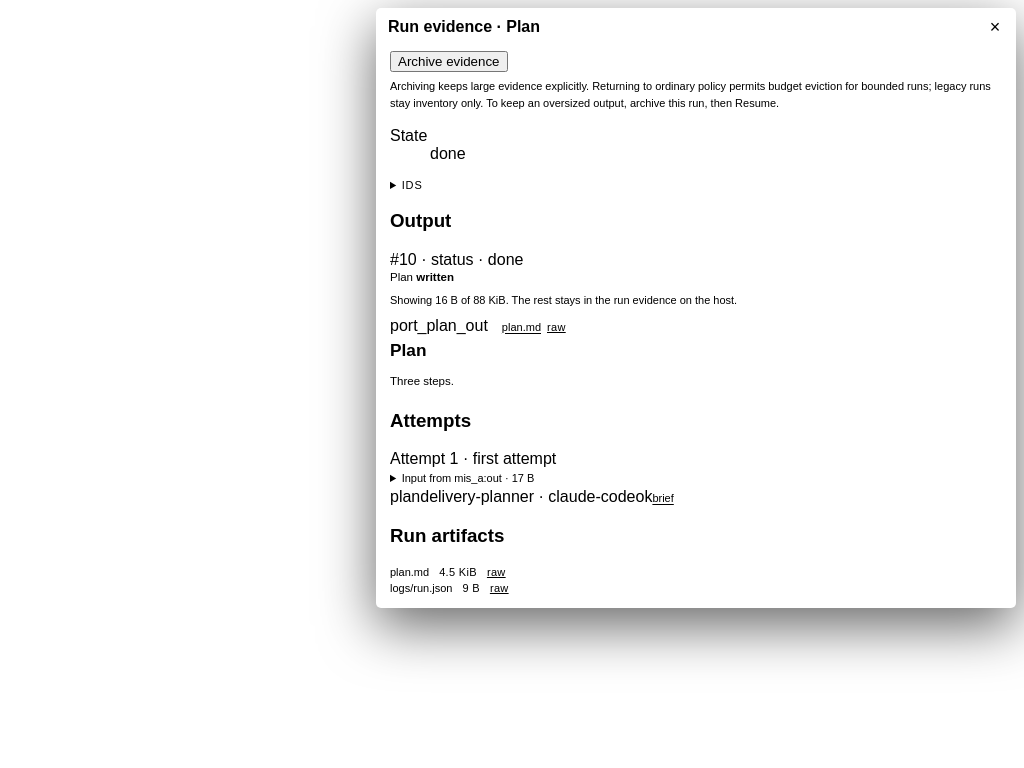
RunEvidence › opens an artifact in a file window when the cockpit has them
(page scrolled)
Step 1. Click the button "plan.md" next to "4.5 KiB" → {"x": 410, "y": 572}, box [390,566,429,578]
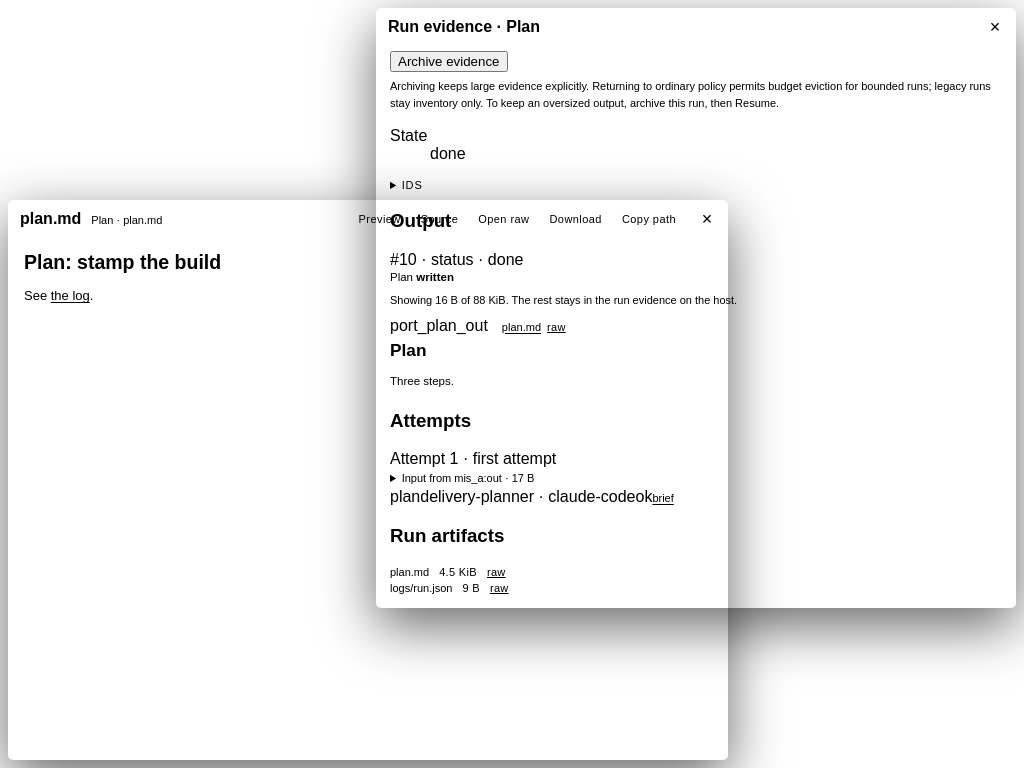
Check: the heading "Plan: stamp the build" is shown, box [24,251,221,273]
Check: the dialog named "file plan.md" shows "Plan · plan.md", box [91,214,162,226]
